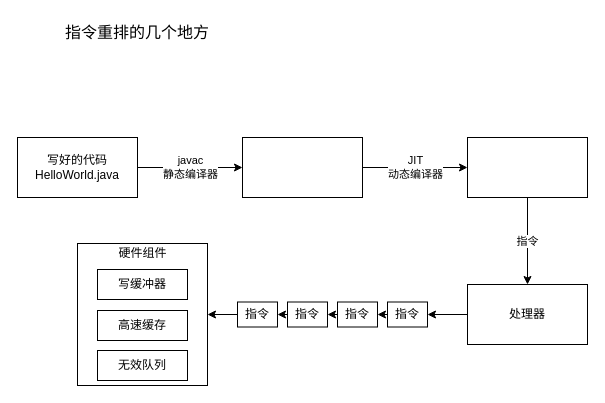
The diagram is 605 pixels wide and 403 high, and some of its shapes have lost their labels. Here are the shapes that lost their labels. From the top down, the centre of each, then its label:
(302,167): 字节码 HelloWorld.class
(527,167): 操作系统 支持的字节码
